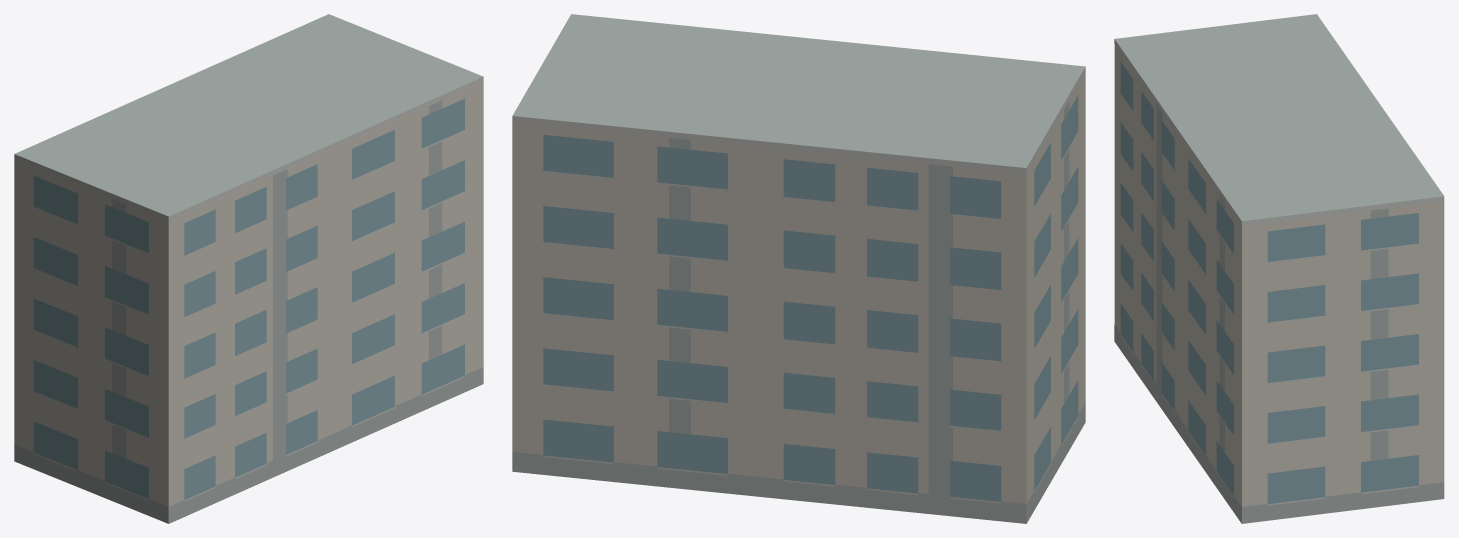
File: survey-upis-32982864.glb
3 renders of one model, left to right at view 1: azimuth 30°, elevation 25°; view 2: azimuth 150°, elevation 25°; view 3: azimuth 270°, elevation 25°, orthographic. The views are drawn at different scales.
Visible parts, largest first — view 1: survey-upis-32982864.tmp; view 2: survey-upis-32982864.tmp; view 3: survey-upis-32982864.tmp.
Boxes of the visible parts, <box> form: survey-upis-32982864.tmp: <box>14,14,483,523</box>; survey-upis-32982864.tmp: <box>512,14,1085,523</box>; survey-upis-32982864.tmp: <box>1114,14,1444,523</box>.
Bounding box in the file's own units: 21.16 × 14.4 × 14.24.
